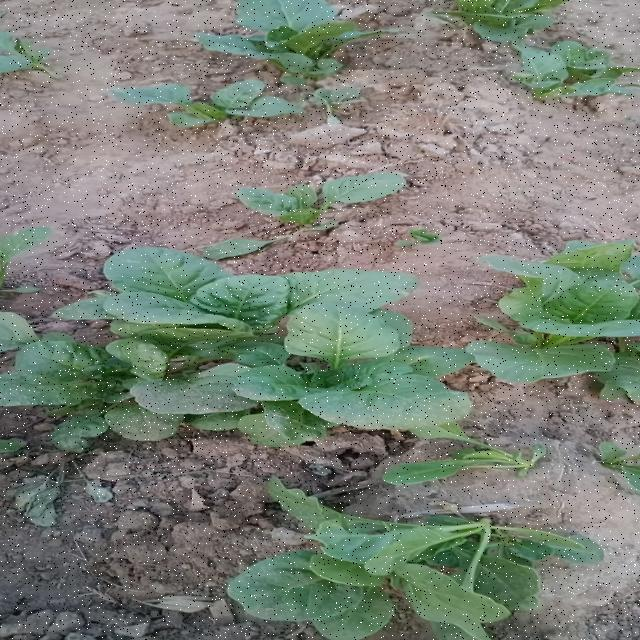plant: (0, 241, 639, 485), (227, 480, 602, 640)
